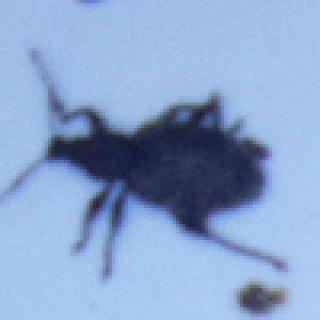bvw: (5, 48, 291, 280)
